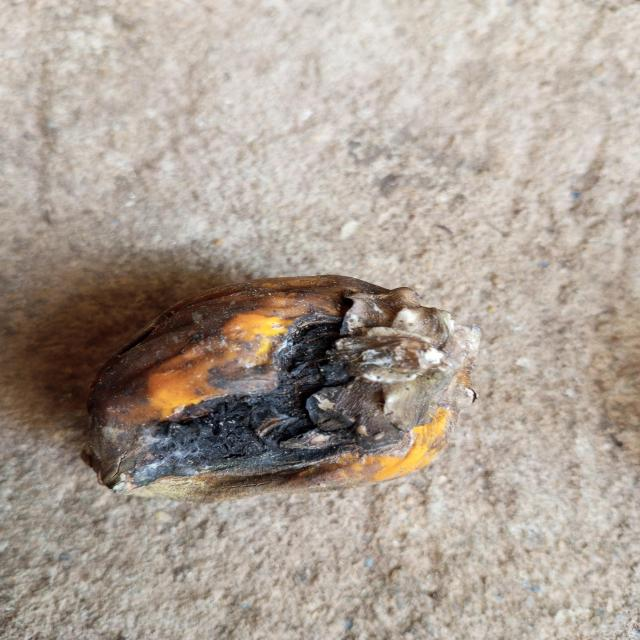damaged: (82, 275, 480, 504)
